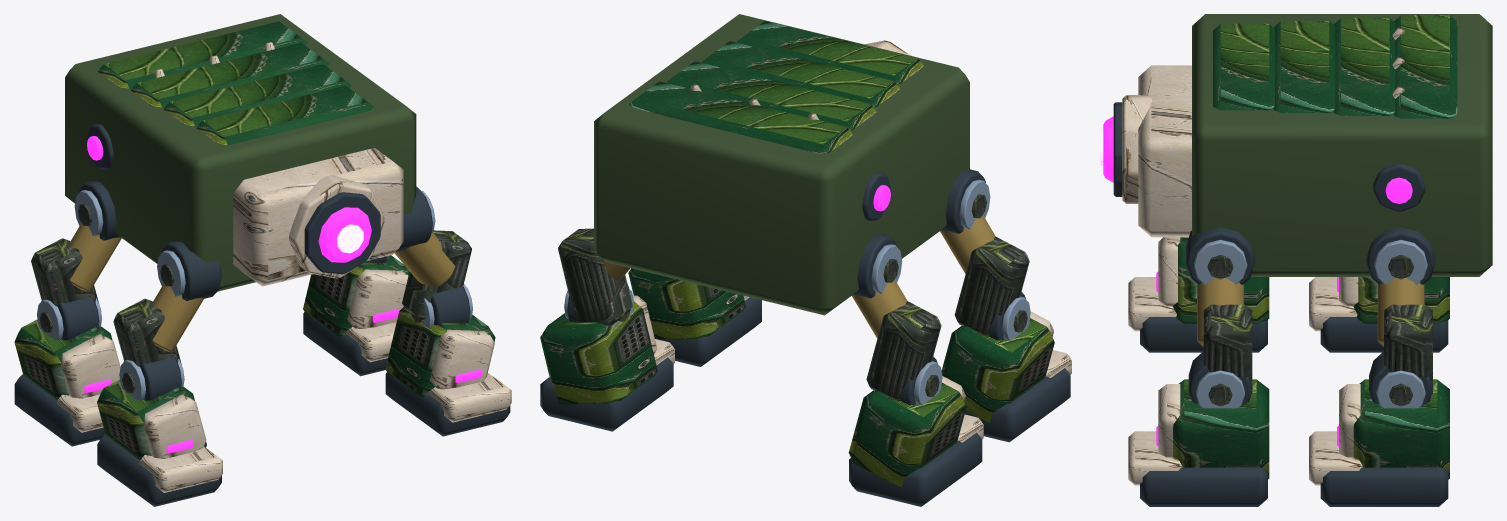
File: thorn_weaver.glb
3 renders of one model, left to right at view 1: azimuth 30°, elevation 25°; view 2: azimuth 150°, elevation 25°; view 3: azimuth 270°, elevation 25°, orthographic. The views are drawn at different scales.
Parts seen in each view (by area): view 1: Polymer bark, Cobalt, Ceramic, Graphite, Weathered brass, Ceramic.004, Ceramic.002, Graphite.002, Ceramic.003, Ceramic.001, Graphite.001, Cobalt.004 (+13 smaller); view 2: Polymer bark, Cobalt, Cobalt.003, Cobalt.001, Cobalt.002, Cobalt.004, Brushed steel.002, Brushed steel.001, Brushed steel.003, Graphite.001, Graphite.003, Graphite.002 (+10 smaller); view 3: Polymer bark, Cobalt, Ceramic, Cobalt.004, Cobalt.003, Graphite.003, Graphite.004, Graphite, Brushed steel.004, Brushed steel.003, Ceramic.004, Ceramic.003 (+12 smaller).
Part boxes in pixels (bbox=[...]): Polymer bark: bbox=[65, 14, 416, 291]; Cobalt: bbox=[98, 21, 373, 145]; Ceramic: bbox=[155, 42, 403, 286]; Graphite: bbox=[79, 124, 432, 300]; Weathered brass: bbox=[70, 224, 455, 351]; Ceramic.004: bbox=[428, 329, 511, 422]; Ceramic.002: bbox=[139, 394, 222, 492]; Graphite.002: bbox=[97, 357, 221, 506]; Ceramic.003: bbox=[346, 269, 408, 362]; Ceramic.001: bbox=[57, 334, 120, 432]; Graphite.001: bbox=[14, 297, 105, 446]; Cobalt.004: bbox=[385, 307, 495, 396]; Polymer bark: bbox=[594, 14, 969, 315]; Cobalt: bbox=[629, 21, 924, 153]; Cobalt.003: bbox=[540, 301, 657, 404]; Cobalt.001: bbox=[848, 382, 966, 487]; Cobalt.002: bbox=[941, 318, 1054, 422]; Cobalt.004: bbox=[628, 268, 745, 339]; Brushed steel.002: bbox=[954, 237, 1029, 336]; Brushed steel.001: bbox=[866, 301, 941, 400]; Brushed steel.003: bbox=[558, 228, 632, 325]; Graphite.001: bbox=[849, 356, 982, 506]; Graphite.003: bbox=[540, 285, 673, 431]; Graphite.002: bbox=[965, 292, 1070, 442]; Polymer bark: bbox=[1192, 14, 1492, 276]; Cobalt: bbox=[1213, 15, 1457, 118]; Ceramic: bbox=[1122, 27, 1404, 237]; Cobalt.004: bbox=[1173, 379, 1269, 479]; Cobalt.003: bbox=[1353, 379, 1449, 479]; Graphite.003: bbox=[1320, 351, 1448, 506]; Graphite.004: bbox=[1140, 351, 1267, 506]; Graphite: bbox=[1113, 102, 1435, 284]; Brushed steel.004: bbox=[1203, 304, 1252, 406]; Brushed steel.003: bbox=[1384, 304, 1432, 406]; Ceramic.004: bbox=[1128, 384, 1182, 485]; Ceramic.003: bbox=[1309, 384, 1362, 485].
Bounding box in the file's own units: 1.23 × 1.04 × 1.04.
9 materials, 3 textured.
